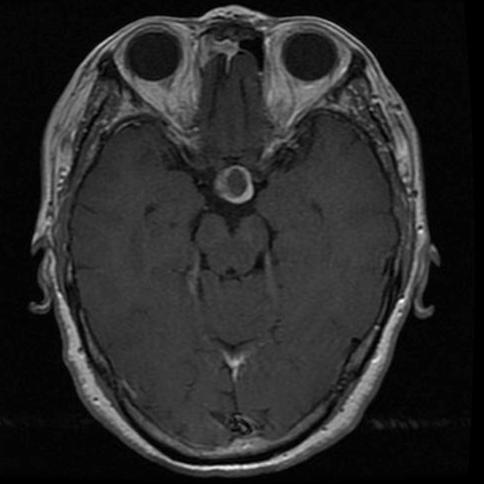Tumour-Pituitary: (212, 162, 261, 210)
